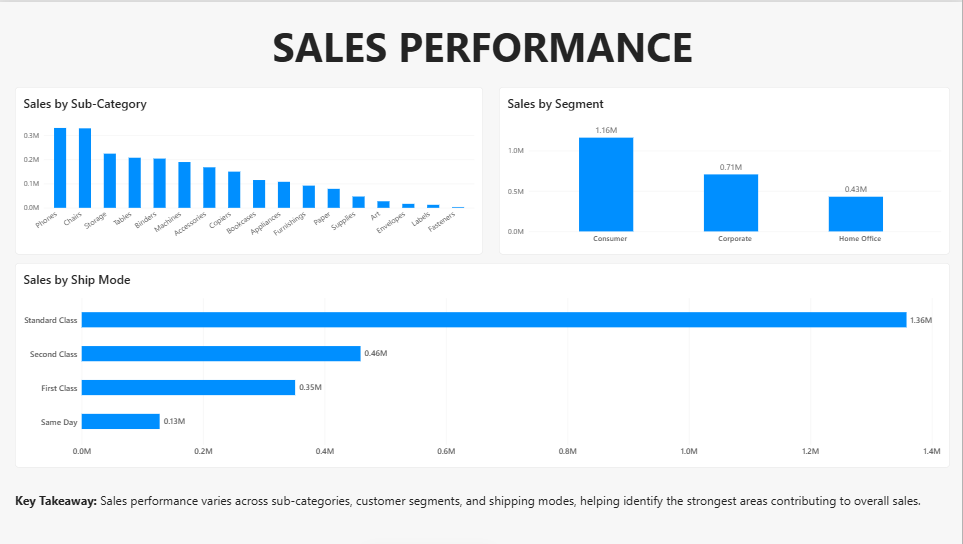

Layout of this report page (visuals, bound fields, positions):
{"tool":"powerbi","page":{"name":"2-Sales Performance","canvas":[1920,1080],"ordinal":2},"visuals":[{"type":"clusteredColumnChart","title":" Sales by Sub-Category","fields":{"Category":["SampleSuperstore.Sub-Category"],"Y":["Sum(SampleSuperstore.Sales)"]},"box":[31.9,169.4,933,333.9],"z":0},{"type":"clusteredColumnChart","title":"Sales by Segment","fields":{"Category":["SampleSuperstore.Segment"],"Y":["Sum(SampleSuperstore.Sales)"]},"box":[996.8,169.4,898.6,333.9],"z":1},{"type":"clusteredBarChart","title":" Sales by Ship Mode","fields":{"Category":["SampleSuperstore.Ship Mode"],"Y":["Sum(SampleSuperstore.Sales)"]},"box":[31.9,520.5,1863.5,407.6],"z":2},{"type":"textbox","box":[31.9,33.9,1864.2,111.7],"z":3},{"type":"textbox","box":[31.9,977.2,1863.5,78.6],"z":4}]}

Visuals, with their boxes in screenshot pixels (x1, y1, x2, y2), scaled from the page's 1920x1080 canvas onto the 963x544 screenshot:
" Sales by Sub-Category" clusteredColumnChart: [x1=16, y1=85, x2=484, y2=254]
"Sales by Segment" clusteredColumnChart: [x1=500, y1=85, x2=951, y2=254]
" Sales by Ship Mode" clusteredBarChart: [x1=16, y1=262, x2=951, y2=467]
textbox: [x1=16, y1=17, x2=951, y2=73]
textbox: [x1=16, y1=492, x2=951, y2=532]
